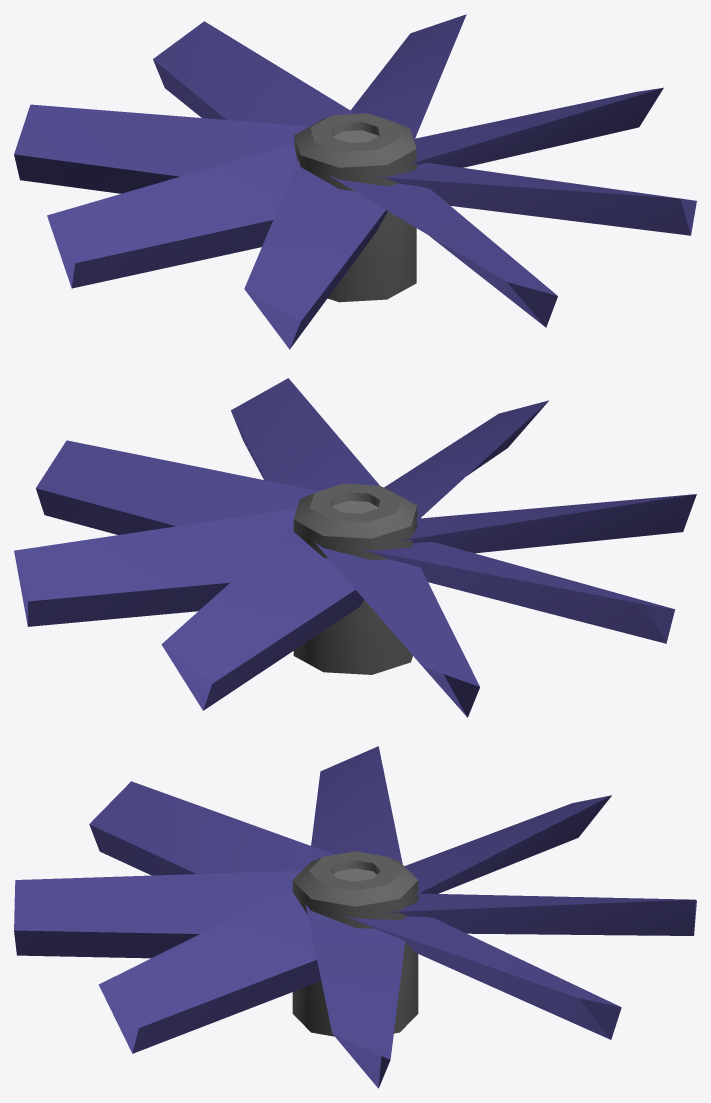
File: TFan_E.fbx
The picture shows the model from 3 angles, top to bottom: view 1: azimuth 30°, elevation 25°; view 2: azimuth 150°, elevation 25°; view 3: azimuth 270°, elevation 25°; orthographic projection. The views are drawn at different scales.
Parts seen in each view (by area): view 1: TFan_E; view 2: TFan_E; view 3: TFan_E.
Boxes of the visible parts, x1,y1,x2,y2 form: TFan_E: (14, 14, 696, 349); TFan_E: (14, 378, 696, 717); TFan_E: (14, 746, 696, 1088).
Size of the model in its own units: 86.98 by 20.08 by 86.98.
